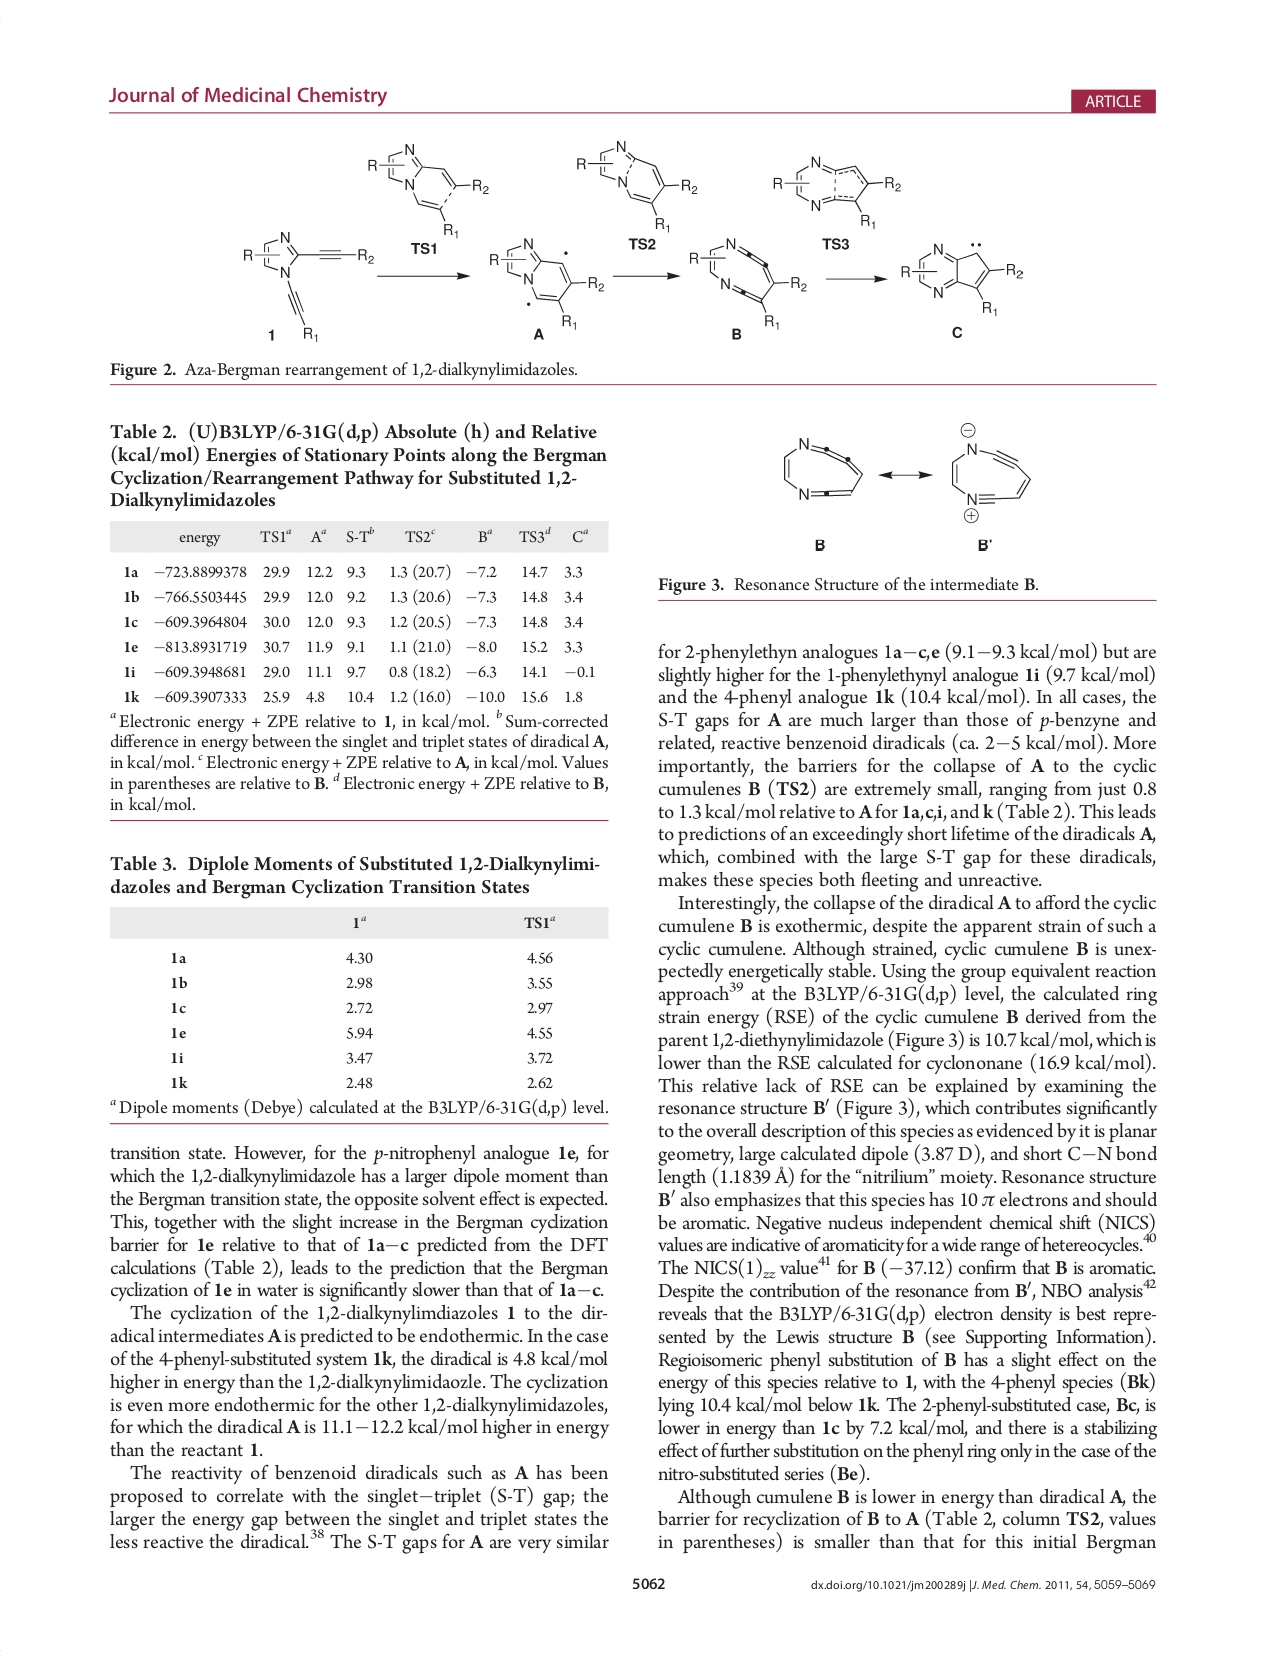exist_molecular: (238, 227, 376, 343), (366, 141, 492, 239), (574, 137, 699, 234), (688, 235, 807, 330), (487, 235, 606, 328), (769, 153, 902, 231), (900, 239, 1023, 319), (949, 418, 1032, 528), (778, 430, 867, 501)
